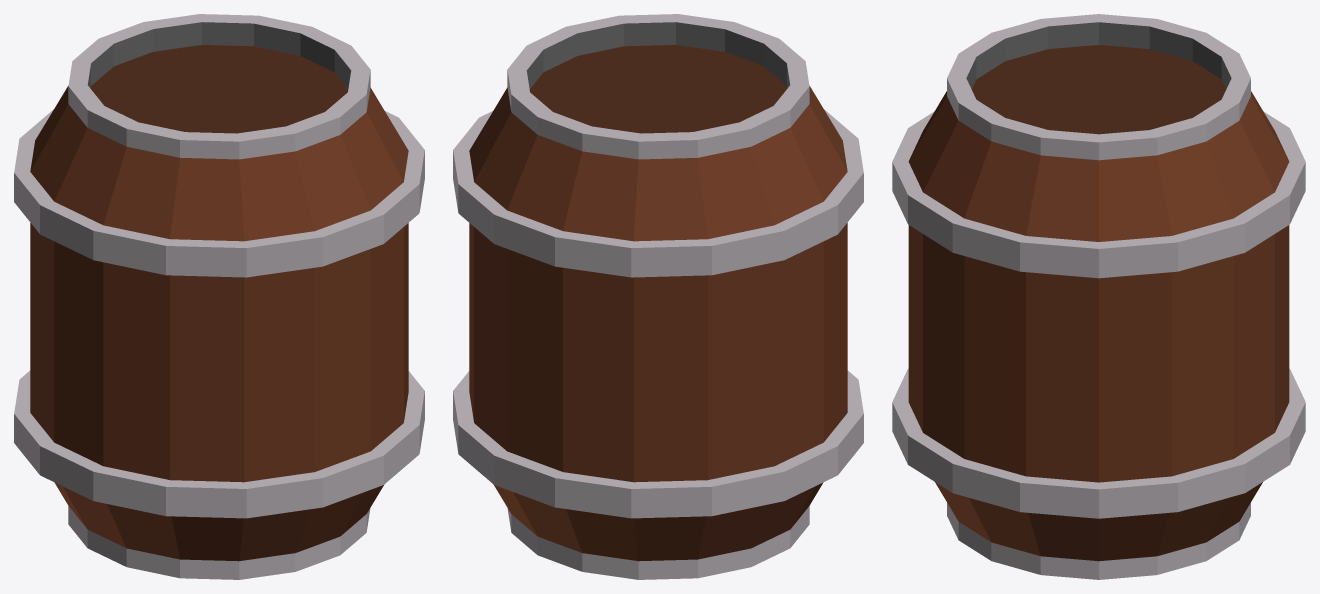
Rendered from barril.fbx.
The picture shows the model from 3 angles, left to right: view 1: azimuth 30°, elevation 25°; view 2: azimuth 150°, elevation 25°; view 3: azimuth 270°, elevation 25°; orthographic projection.
Visible parts, largest first — view 1: Barril; view 2: Barril; view 3: Barril.
Boxes of the visible parts, x1,y1,x2,y2 form: Barril: (14, 14, 424, 579); Barril: (453, 14, 863, 579); Barril: (892, 14, 1305, 579).
Size of the model in its own units: 217 by 253 by 217.
